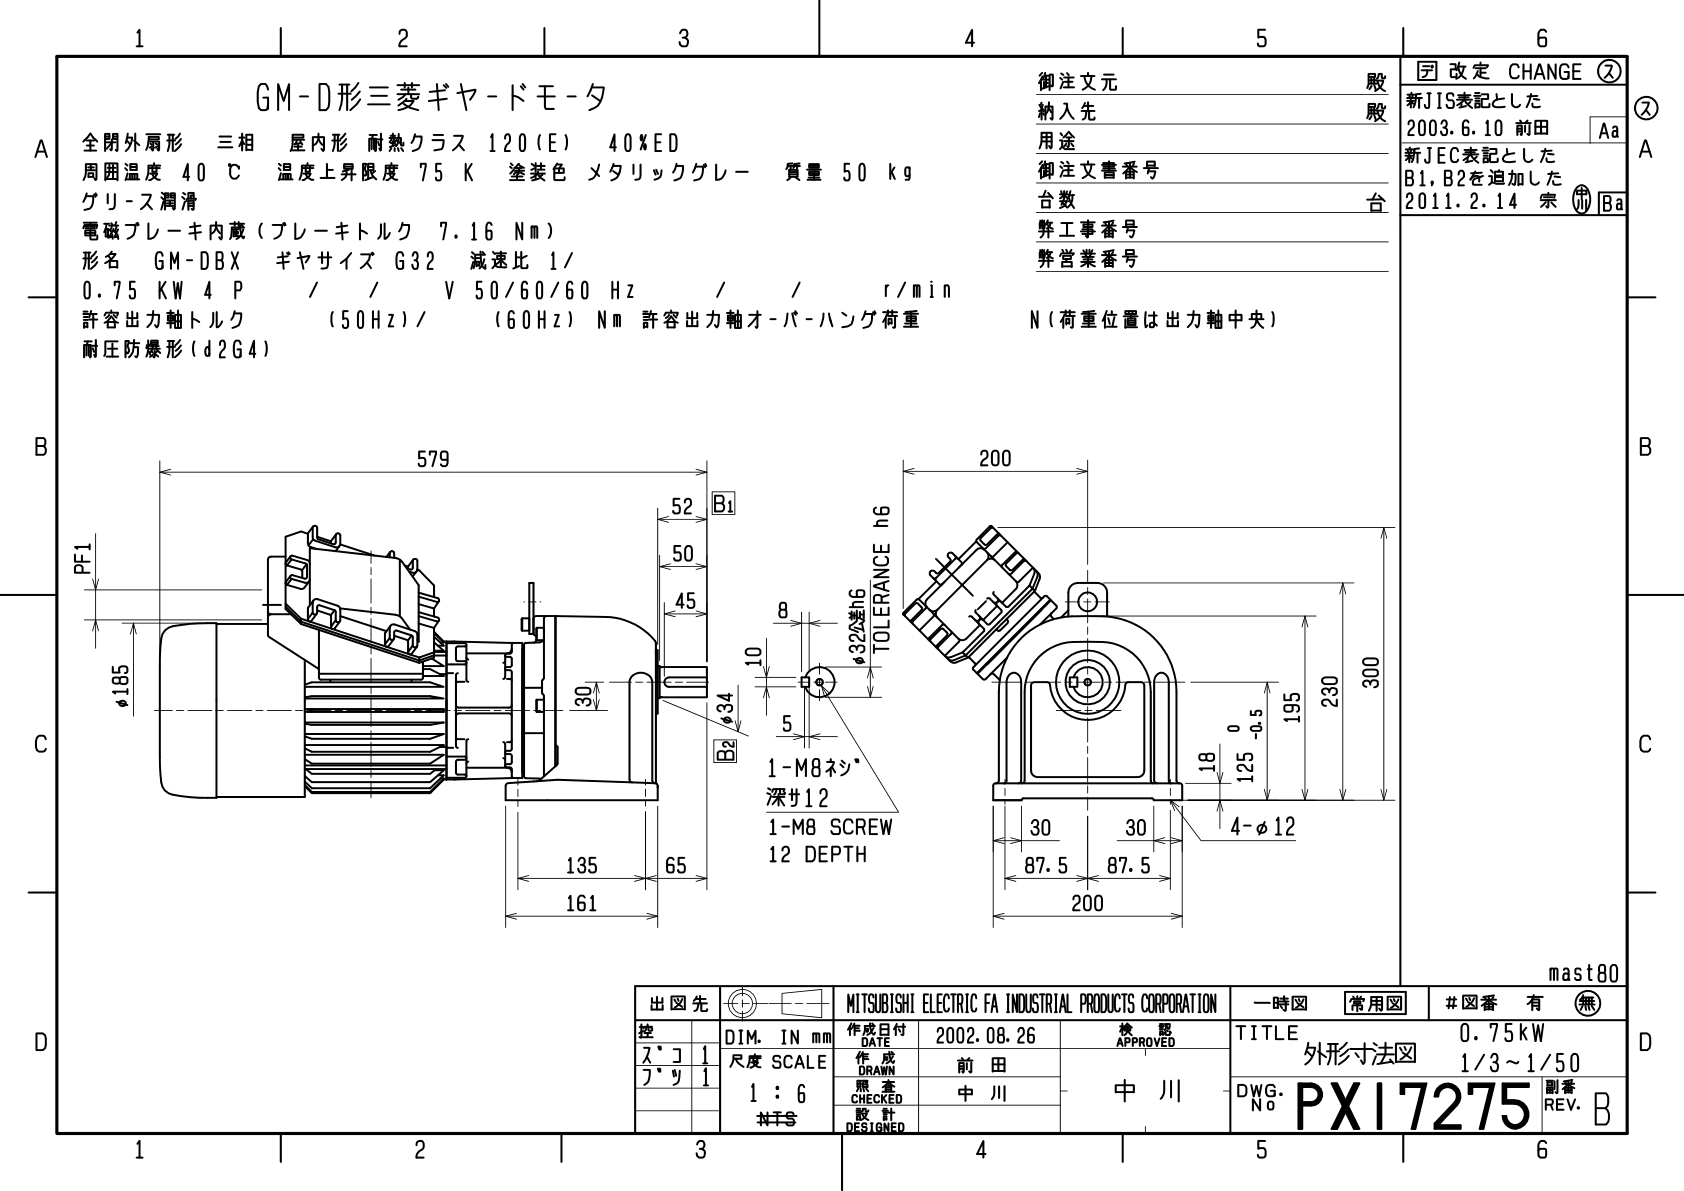GM_D_耐圧屋内_三相_脚: (64, 418, 1392, 953)
